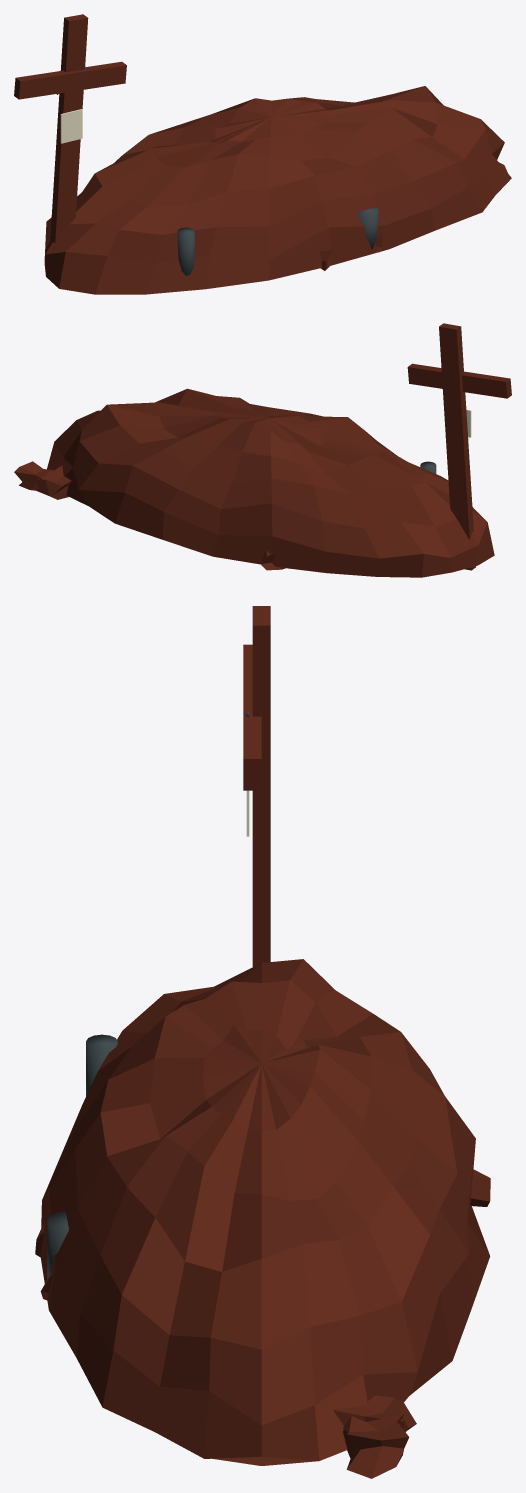
Rendered from graveyard_grave_fresh_0.glb.
3 renders of one model, top to bottom at view 1: azimuth 30°, elevation 25°; view 2: azimuth 150°, elevation 25°; view 3: azimuth 270°, elevation 25°, orthographic. The views are drawn at different scales.
Parts seen in each view (by area): view 1: mound, cross_post, cross_arm, water, photo, jar; view 2: mound, cross_post, cross_arm, clod_0, clod_12; view 3: mound, cross_post, clod_12, cross_arm, clod_0, water.
Part boxes in pixels (left/top/right/bottom): mound: left=44, top=86, right=511, bottom=294; cross_post: left=50, top=14, right=88, bottom=245; cross_arm: left=14, top=61, right=126, bottom=99; water: left=177, top=227, right=194, bottom=275; photo: left=60, top=109, right=82, bottom=143; jar: left=357, top=206, right=378, bottom=249; mound: left=47, top=388, right=494, bottom=577; cross_post: left=439, top=323, right=475, bottom=570; cross_arm: left=407, top=363, right=511, bottom=398; clod_0: left=37, top=465, right=71, bottom=499; clod_12: left=14, top=461, right=54, bottom=490; mound: left=40, top=959, right=490, bottom=1465; cross_post: left=252, top=606, right=270, bottom=966; clod_12: left=343, top=1413, right=409, bottom=1478; cross_arm: left=243, top=644, right=261, bottom=790; clod_0: left=333, top=1395, right=416, bottom=1432; water: left=86, top=1034, right=117, bottom=1095.
Size of what is drawn, in the model's own units: 2.32 by 1.15 by 0.9989.
